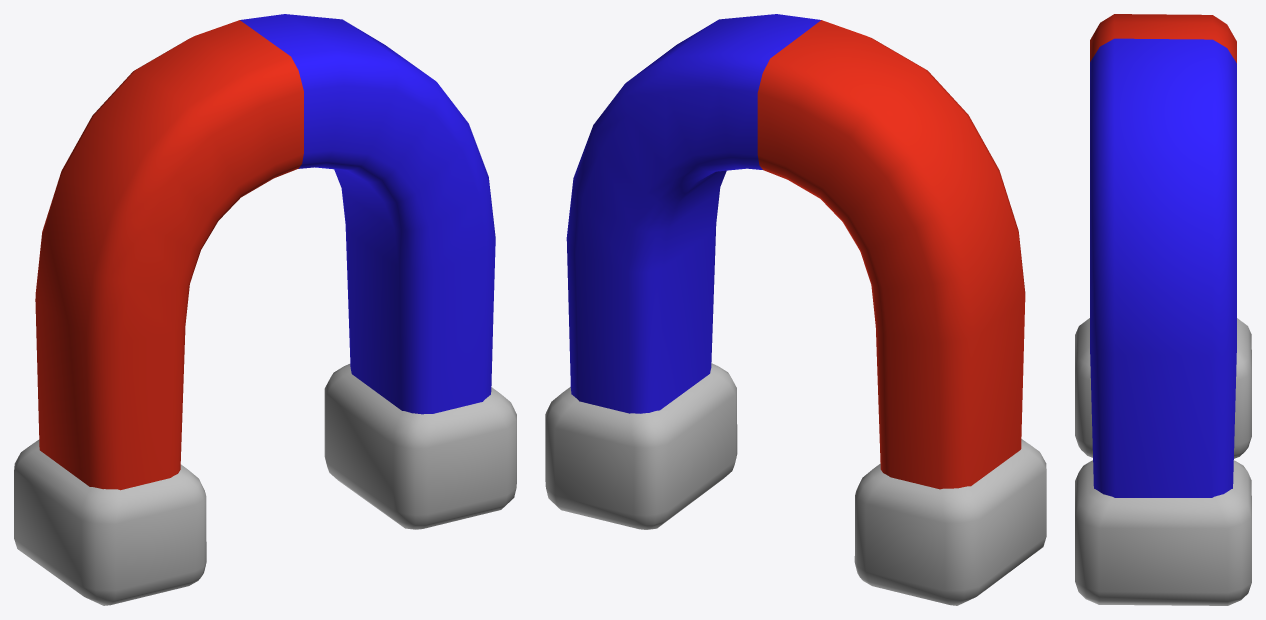
Rendered from magnet (1).fbx.
The picture shows the model from 3 angles, left to right: view 1: azimuth 30°, elevation 25°; view 2: azimuth 150°, elevation 25°; view 3: azimuth 270°, elevation 25°; orthographic projection. The views are drawn at different scales.
Parts seen in each view (by area): view 1: Plane; view 2: Plane; view 3: Plane.
Part boxes in pixels (box(x1,y1,x2,y2)): Plane: box(14, 14, 516, 605); Plane: box(545, 14, 1046, 605); Plane: box(1075, 14, 1251, 605).
Size of the model in its own units: 74.92 by 81.69 by 27.51.
